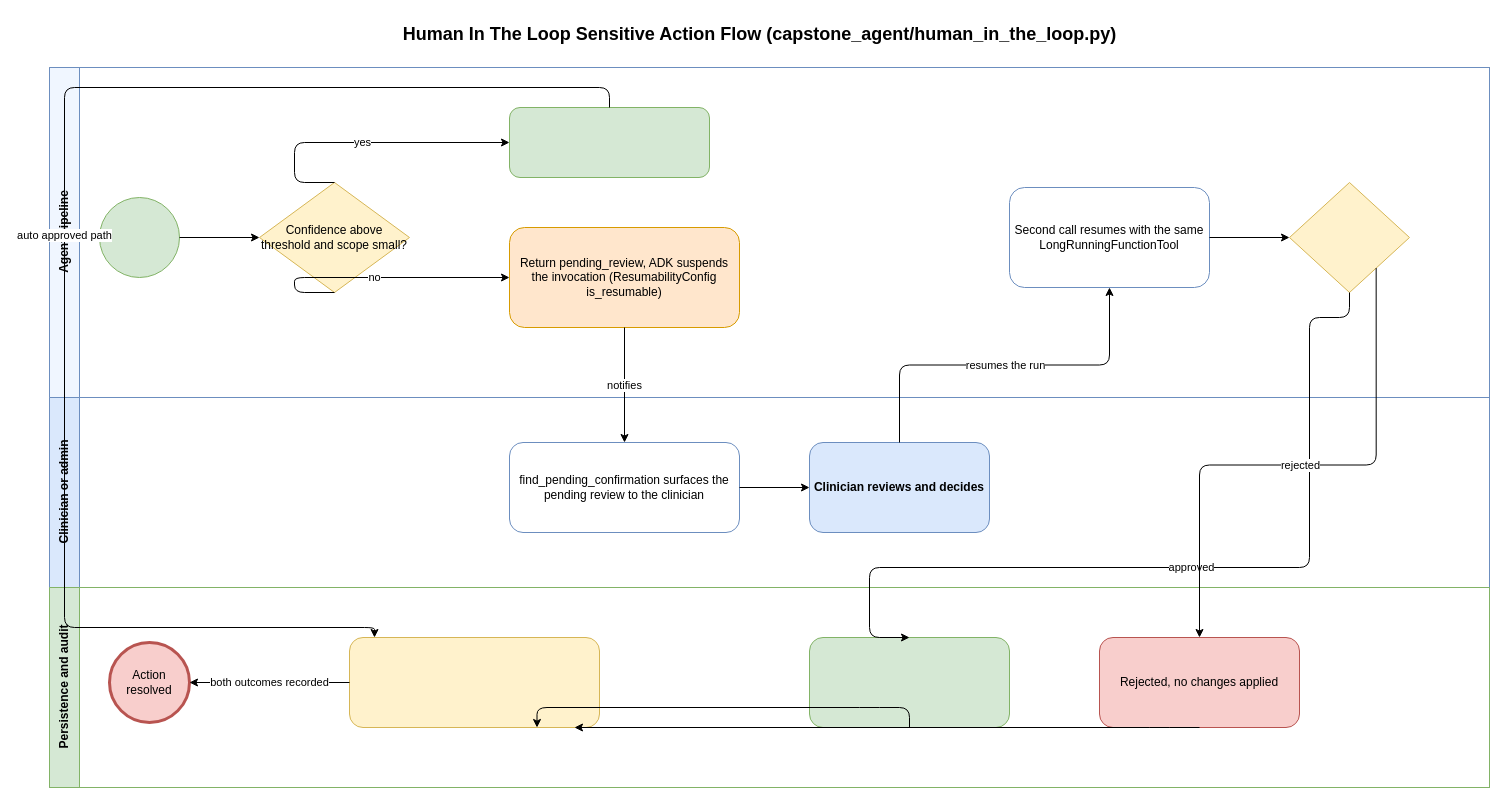
Some shapes in this 1507 by 805 pixel diagram are drawn without their labels. Here are the shapes that lost their labels. From the top down, the centre of each, then its label:
pixel 609 142: Auto approve, proceed immediately
pixel 139 237: Sensitive action requested
pixel 1349 237: Decision?
pixel 474 682: clinical_review_approved or clinical_review_rejected logged to the audit trail
pixel 909 682: Approved, action applied, changes persisted
